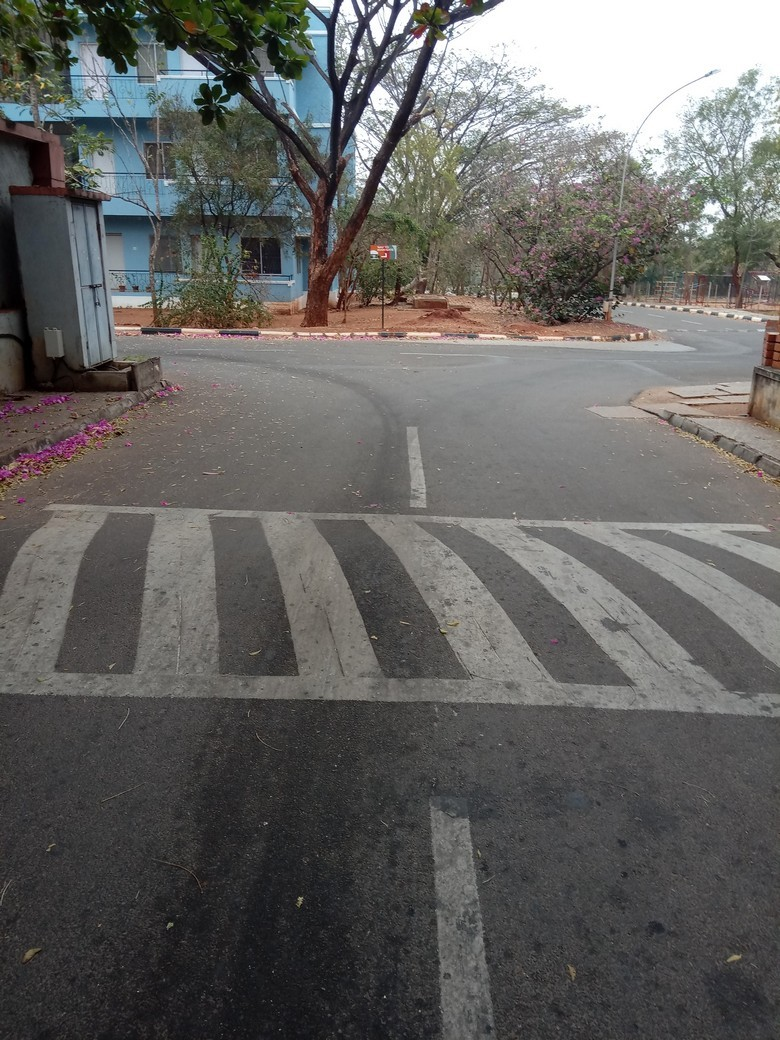bump: (1, 508, 780, 705)
